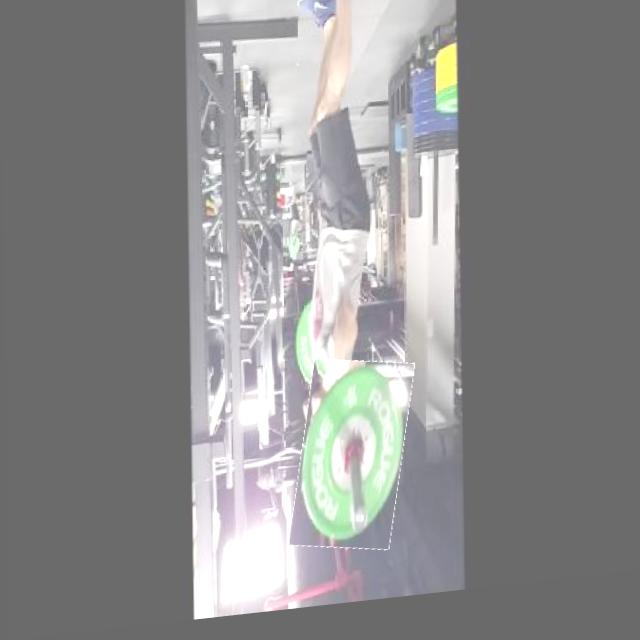barbell: (293, 363, 410, 564)
